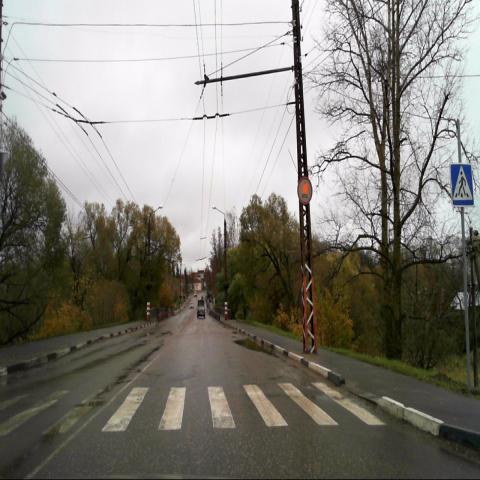3_32: (296, 173, 313, 206)
